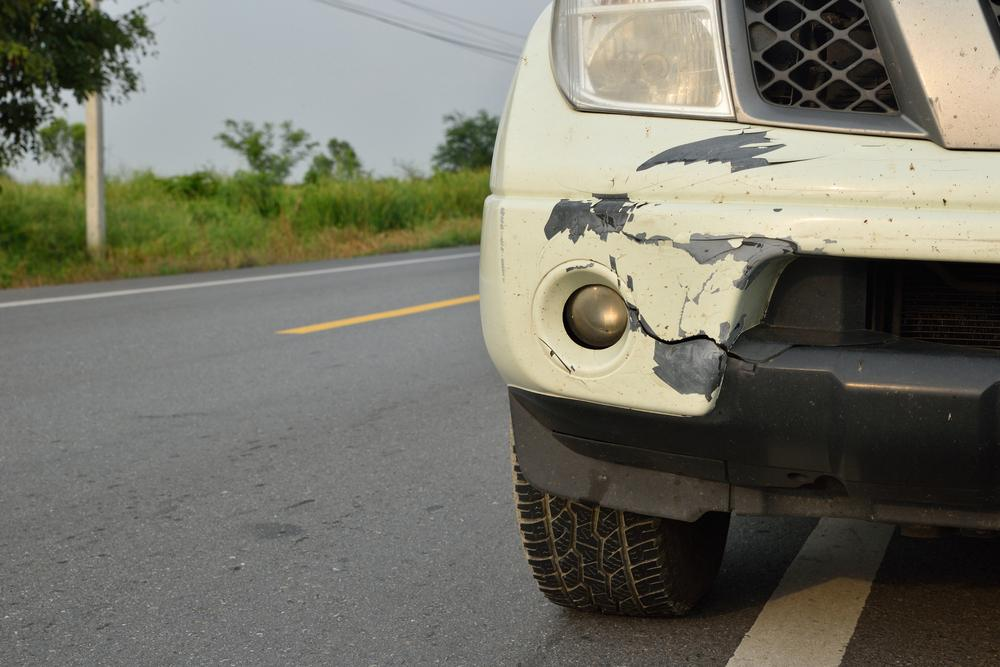crack: (625, 306, 728, 354)
scratch: (543, 130, 821, 348), (654, 340, 728, 400)
